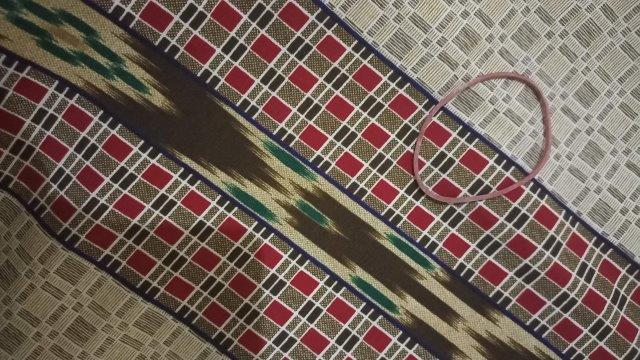karet: (413, 72, 552, 203)
